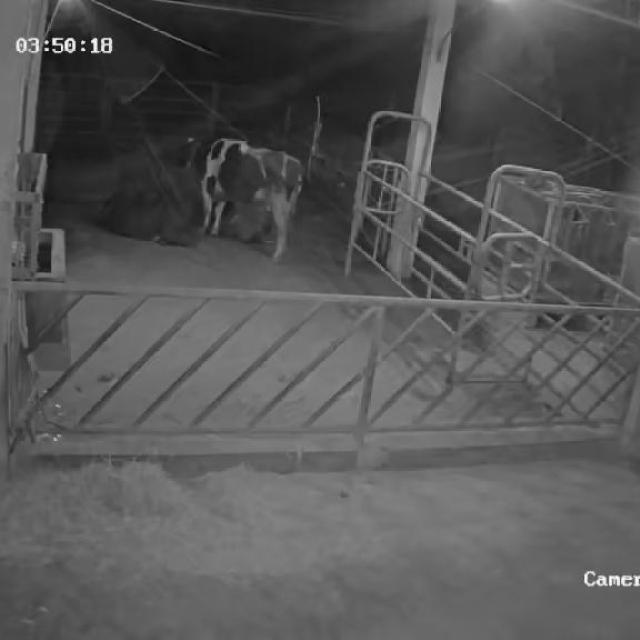lying down: (98, 178, 204, 250)
standing: (176, 134, 306, 266)
